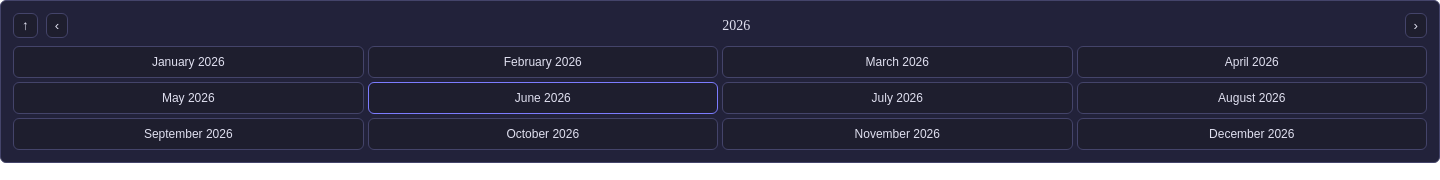
ScopePicker — navigation › double-clicking a month descends into its weeks
This screenshot has width=1440, height=180.
Double-click the button "June 2026": (543, 98) [368, 82, 718, 114]
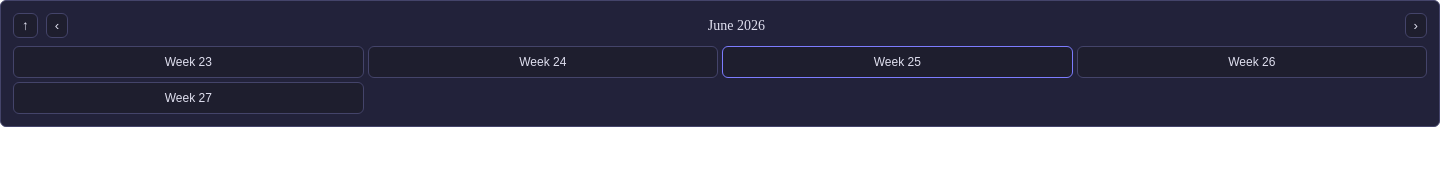
Expected: the button "Week 23" is shown, [13, 46, 364, 78]
